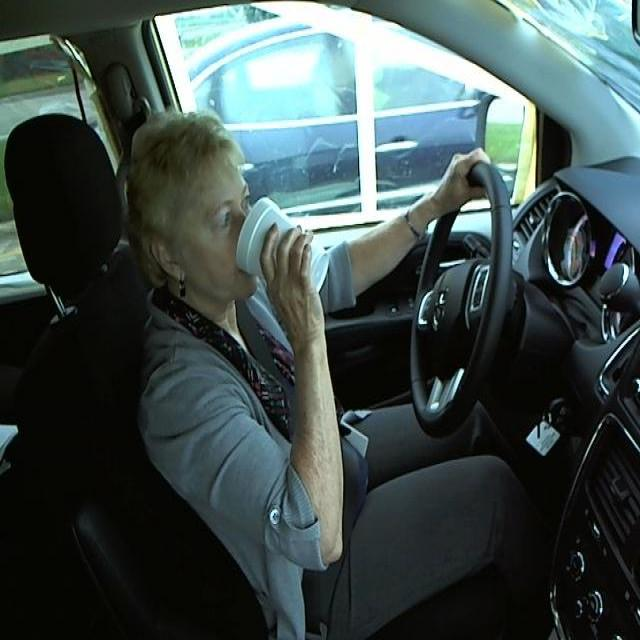drinking: (233, 194, 334, 307)
